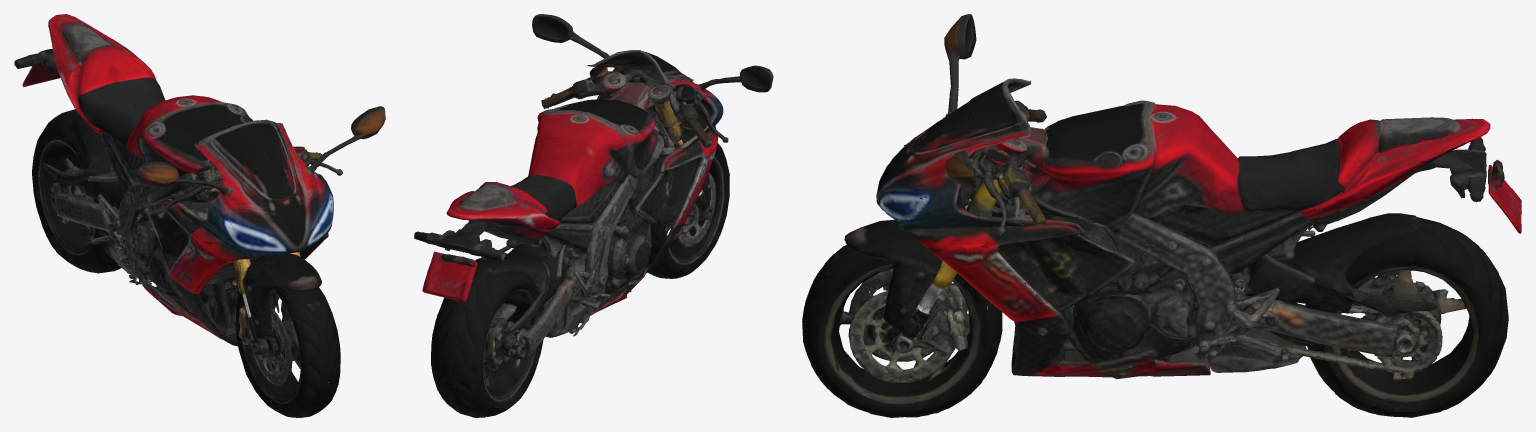
File: nomad-bike.glb
The picture shows the model from 3 angles, left to right: view 1: azimuth 30°, elevation 25°; view 2: azimuth 150°, elevation 25°; view 3: azimuth 270°, elevation 25°; orthographic projection. The views are drawn at different scales.
Visible parts, largest first — view 1: nomad-bike; view 2: nomad-bike; view 3: nomad-bike.
Part boxes in pixels (x1,y1,x2,y2): nomad-bike: [14, 14, 385, 417]; nomad-bike: [414, 14, 773, 417]; nomad-bike: [802, 14, 1521, 417].
Size of the model in its own units: 1.07 by 1.06 by 2.1.
1 material, 1 textured.
